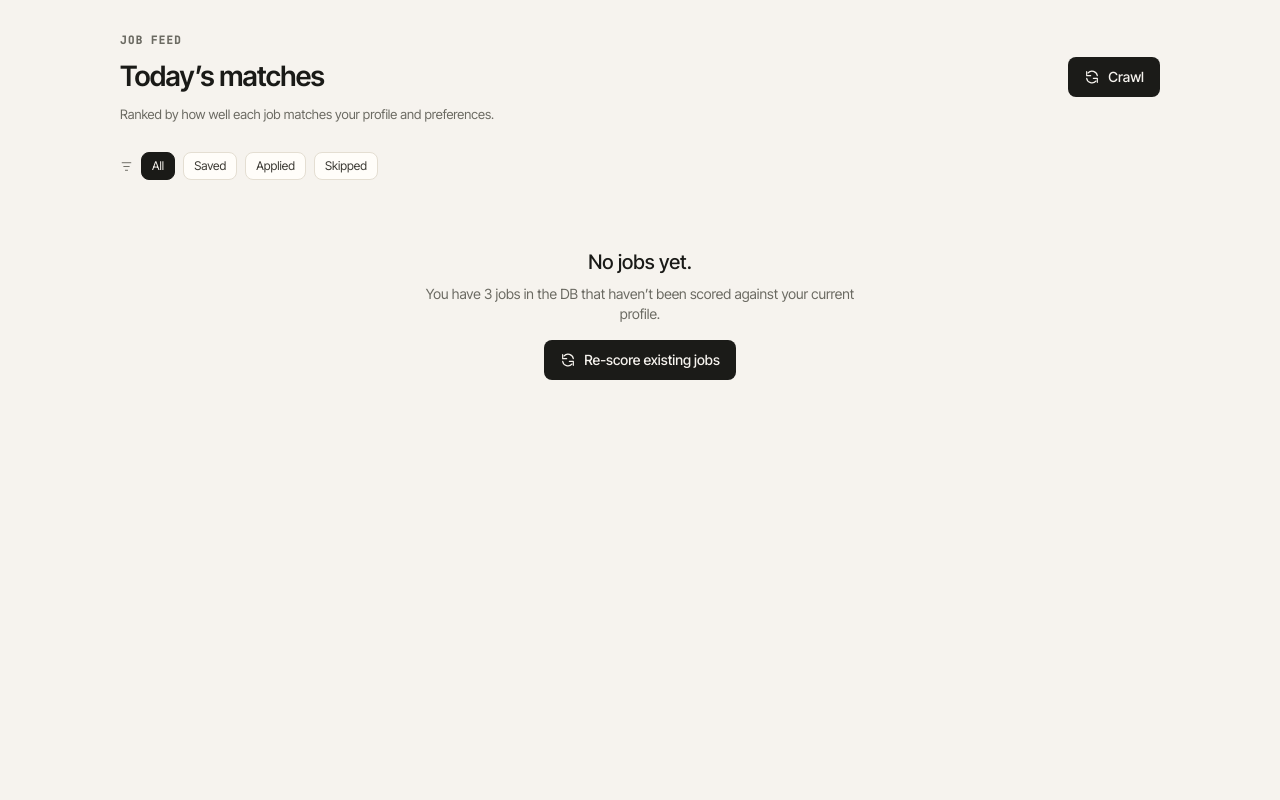
Scenario: FeedScreen › shows the Re-score button only when jobs exist but none are visible
The width and height of the screenshot is (1280, 800).
Click the button with test id "rescore-existing": (640,360) left=544, top=340, right=736, bottom=380
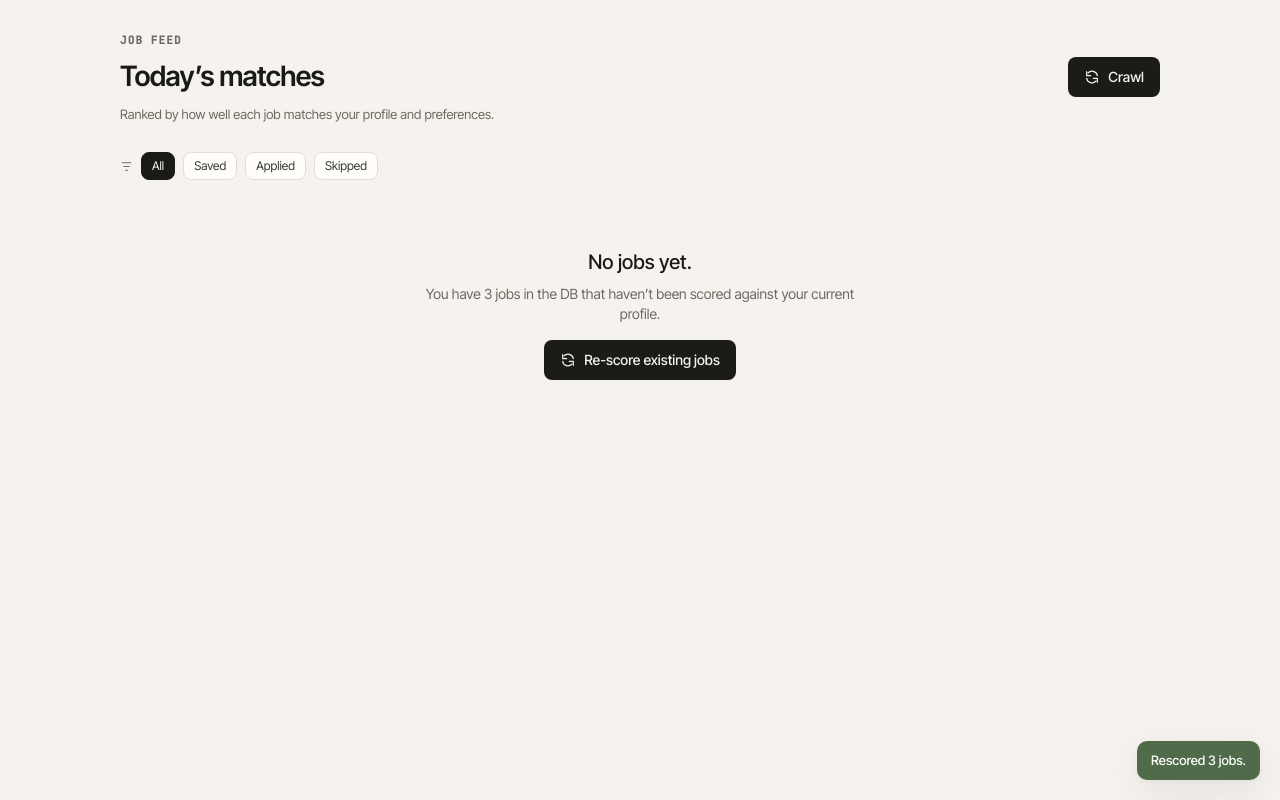
Now the text "Rescored 3 jobs." is shown, box left=1137, top=740, right=1260, bottom=780
